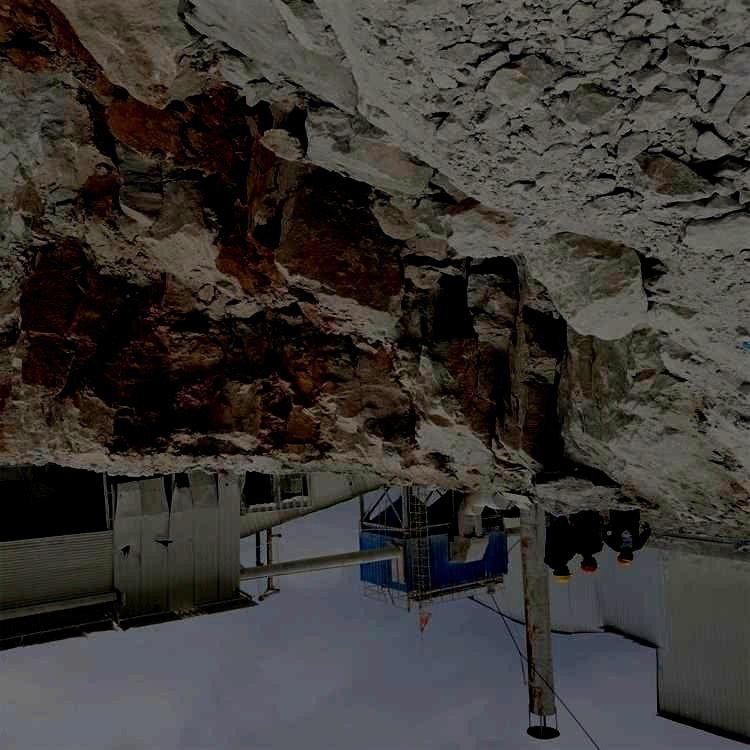helmet: (552, 564, 572, 585), (579, 555, 598, 576), (616, 551, 634, 569)
